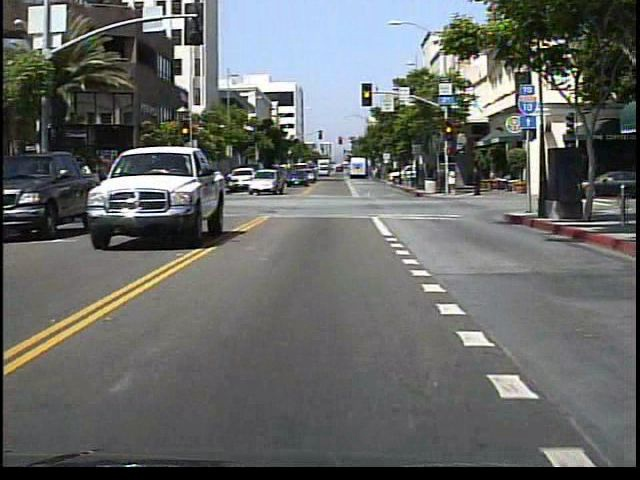person: (470, 166, 484, 199), (173, 168, 187, 197), (448, 165, 459, 198)
